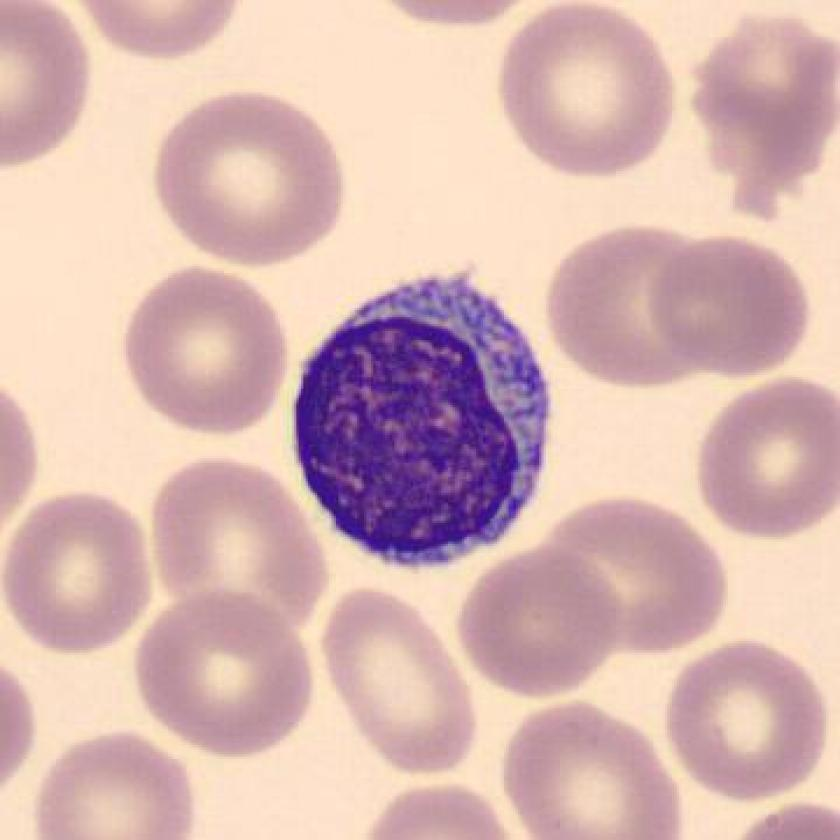lymphocyte: (279, 265, 566, 579)
